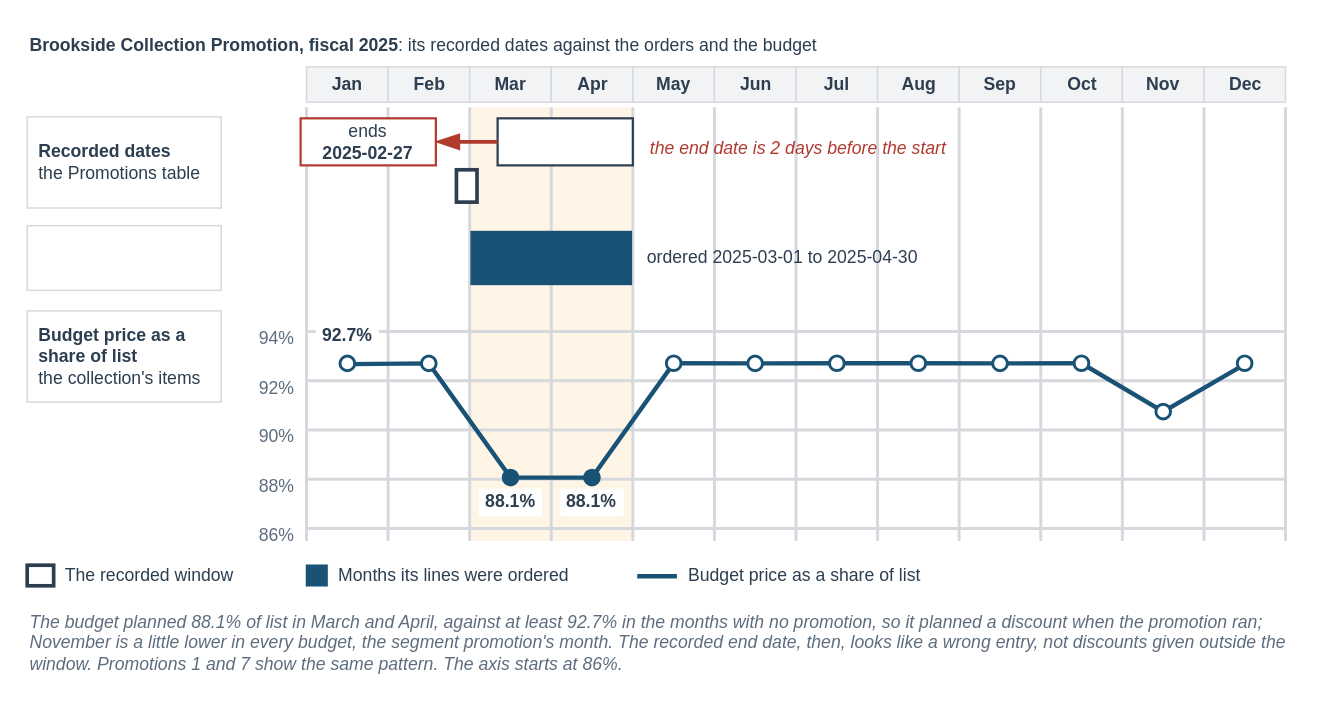
Some shapes in this 1317 by 707 pixel diagram are drawn without their labels. The shapes that lost their labels are listed below. From the top down, each one's box as (x1, y1, x2, y2) in pixels, then its label:
(496, 117, 633, 166): starts 2025-03-01
(26, 224, 221, 290): Lines ordered the order dates
(470, 230, 631, 284): 63 lines
